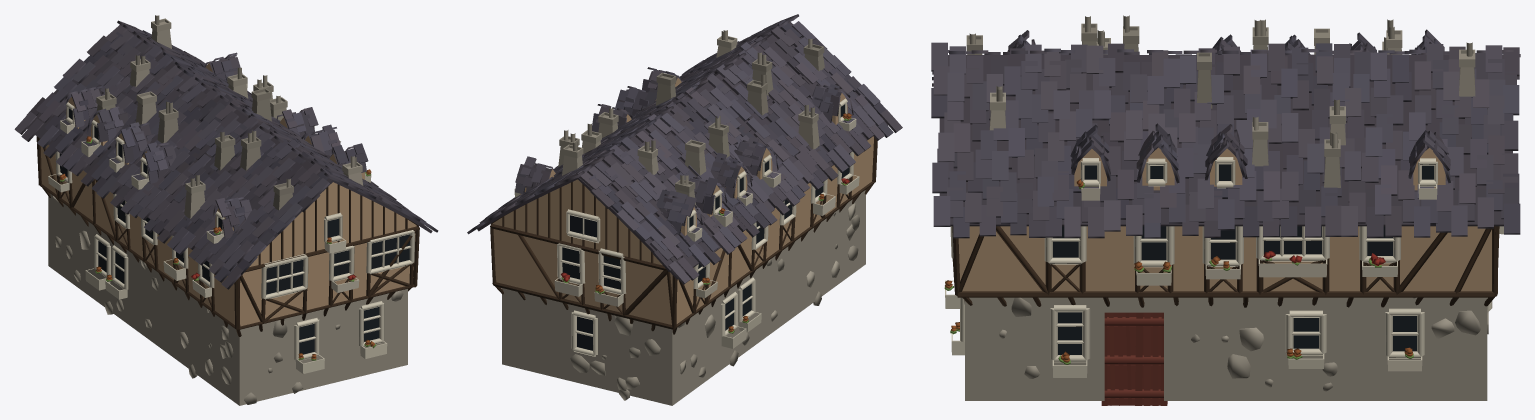
File: house_11.glb
3 renders of one model, left to right at view 1: azimuth 30°, elevation 25°; view 2: azimuth 150°, elevation 25°; view 3: azimuth 270°, elevation 25°, orthographic. The views are drawn at different scales.
Visible parts, largest first — view 1: house_11; view 2: house_11; view 3: house_11.
Boxes of the visible parts, x1,y1,x2,y2 form: house_11: (14, 15, 438, 405); house_11: (467, 14, 902, 405); house_11: (931, 15, 1520, 405).
Bounding box in the file's own units: 6.81 × 7.08 × 11.64.
